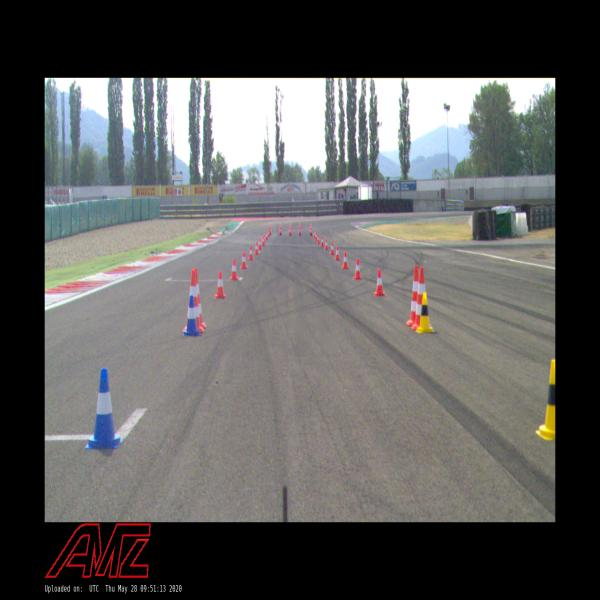blue_cone: (85, 368, 123, 449), (183, 295, 201, 337)
large_orange_cone: (411, 267, 432, 330), (184, 270, 204, 333), (406, 266, 420, 326), (194, 268, 206, 329), (278, 224, 283, 236), (298, 224, 302, 236), (268, 224, 272, 235), (289, 224, 292, 236), (310, 223, 312, 236)
orange_cone: (373, 270, 386, 298), (214, 271, 226, 299), (352, 258, 362, 281), (230, 259, 238, 280), (342, 251, 349, 270), (241, 251, 247, 270), (334, 246, 341, 261), (248, 246, 254, 260), (254, 242, 259, 255), (330, 242, 334, 256), (324, 239, 329, 250), (258, 238, 262, 250), (320, 237, 324, 247), (261, 236, 265, 246), (317, 234, 320, 244), (265, 231, 268, 240), (313, 230, 316, 238), (264, 234, 266, 244), (315, 232, 317, 241), (268, 230, 270, 238)
yellow_cone: (535, 360, 555, 439), (416, 293, 435, 333)
